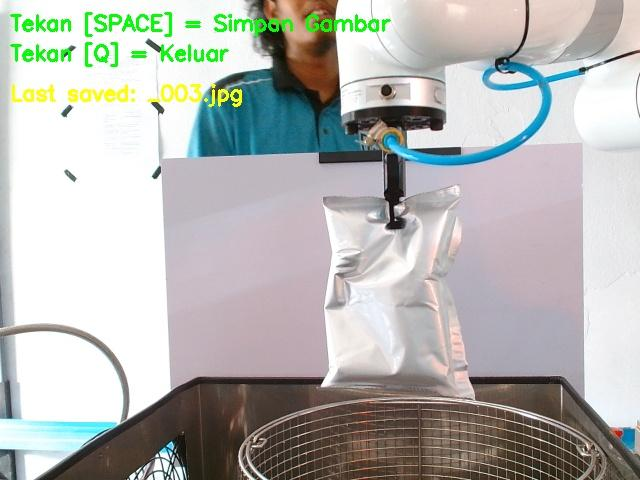retort-pouch: (317, 186, 477, 395)
